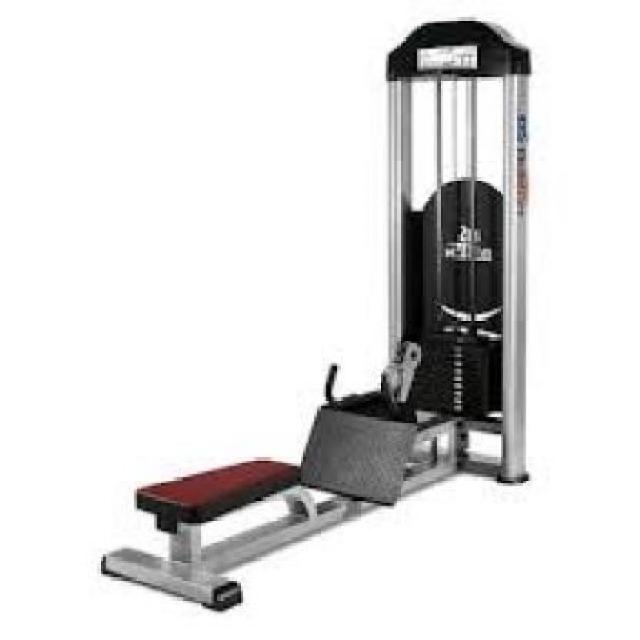Seated Cable Rows: (66, 20, 577, 617)
